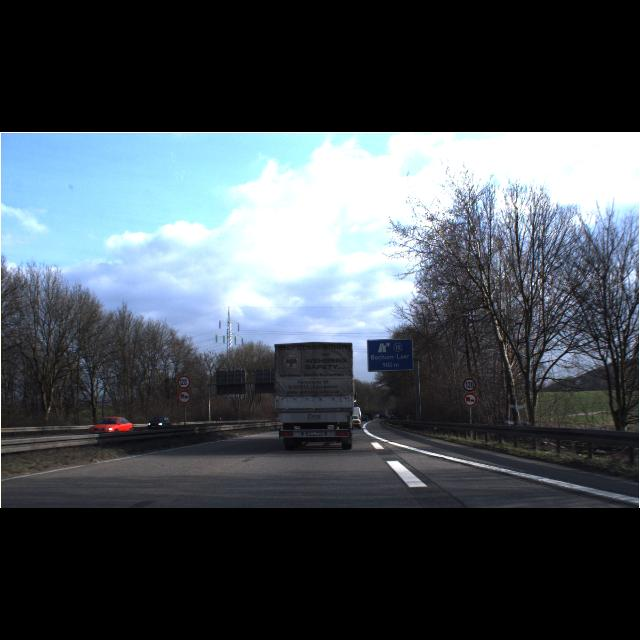prohibitory: (176, 374, 192, 390), (462, 392, 478, 408), (462, 378, 478, 392), (177, 390, 191, 404)
